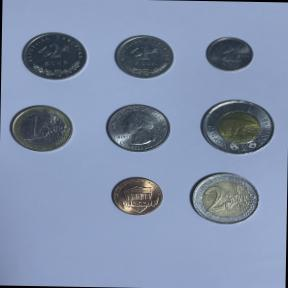1 Euro: (7, 102, 77, 153)
2 Euro: (186, 170, 263, 228)
Canda-10cent-: (202, 35, 258, 75)
Canda-2Dollar-: (196, 98, 280, 157)
Croatia-2Kune-: (18, 29, 92, 83)
US-1cent-: (108, 175, 168, 218)
US-25cent-: (101, 101, 175, 156)
